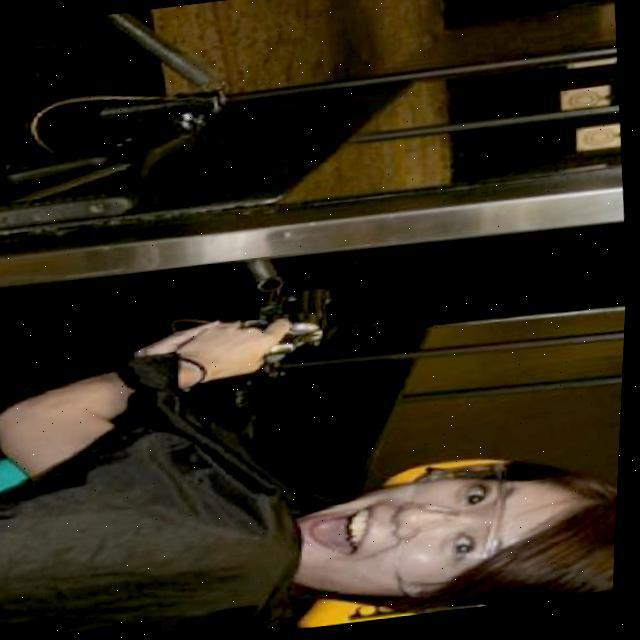gun: (220, 287, 347, 365)
